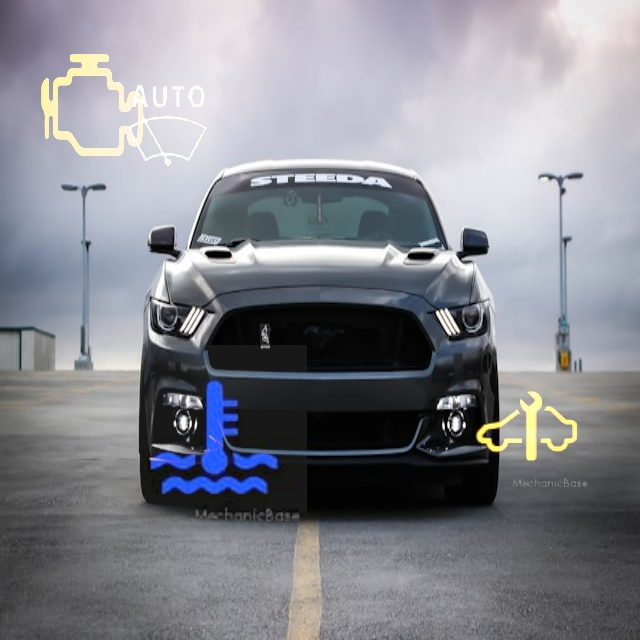symbol: (121, 345, 307, 531), (7, 16, 177, 186), (460, 361, 593, 494), (102, 61, 234, 193)
